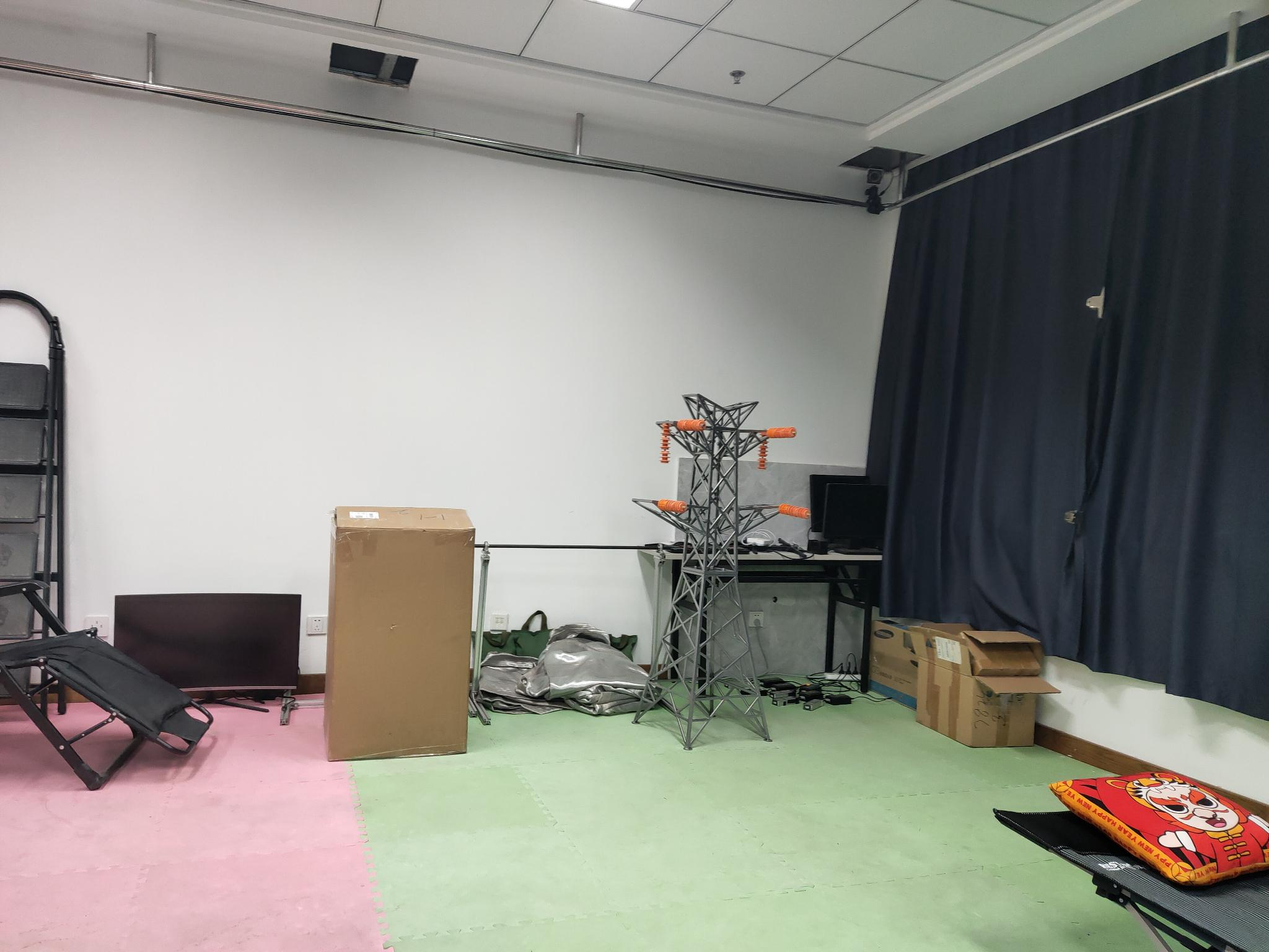tower: (631, 392, 774, 749)
